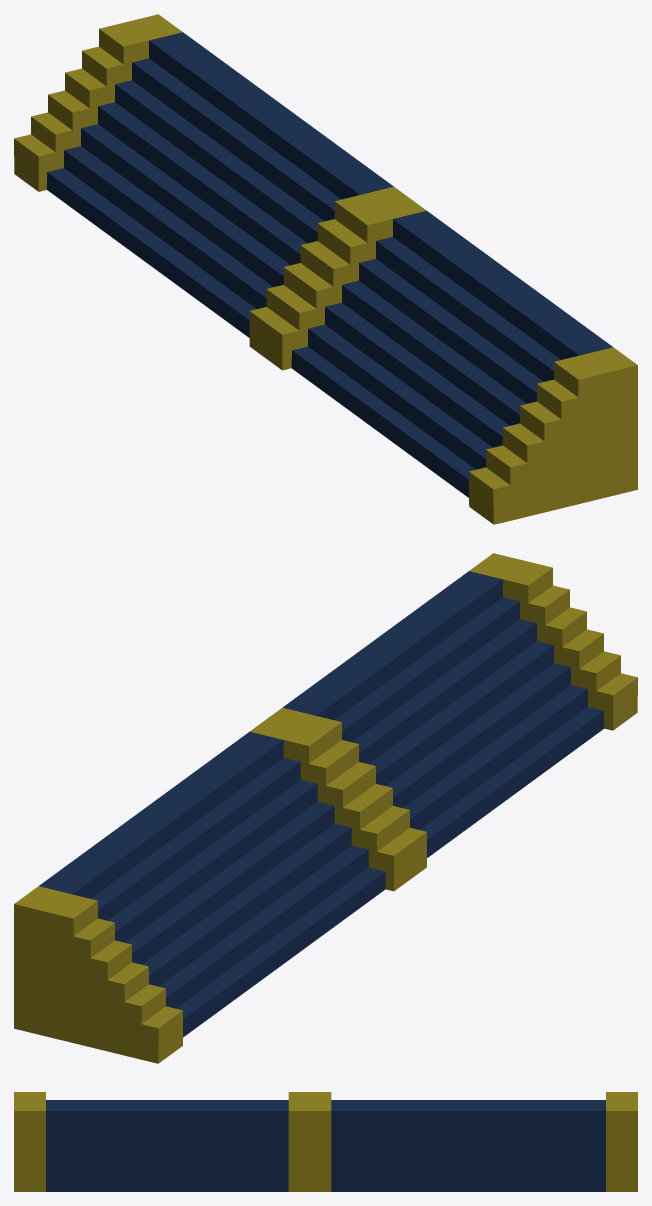
Rendered from Tribun.fbx.
3 renders of one model, top to bottom at view 1: azimuth 30°, elevation 25°; view 2: azimuth 150°, elevation 25°; view 3: azimuth 270°, elevation 25°, orthographic. The views are drawn at different scales.
Visible parts, largest first — view 1: Cube; view 2: Cube; view 3: Cube.
Part boxes in pixels (x1,y1,x2,y2): Cube: [14, 14, 637, 524]; Cube: [14, 553, 637, 1063]; Cube: [14, 1092, 637, 1191].
Size of the model in its own units: 17 by 14 by 97.69.
